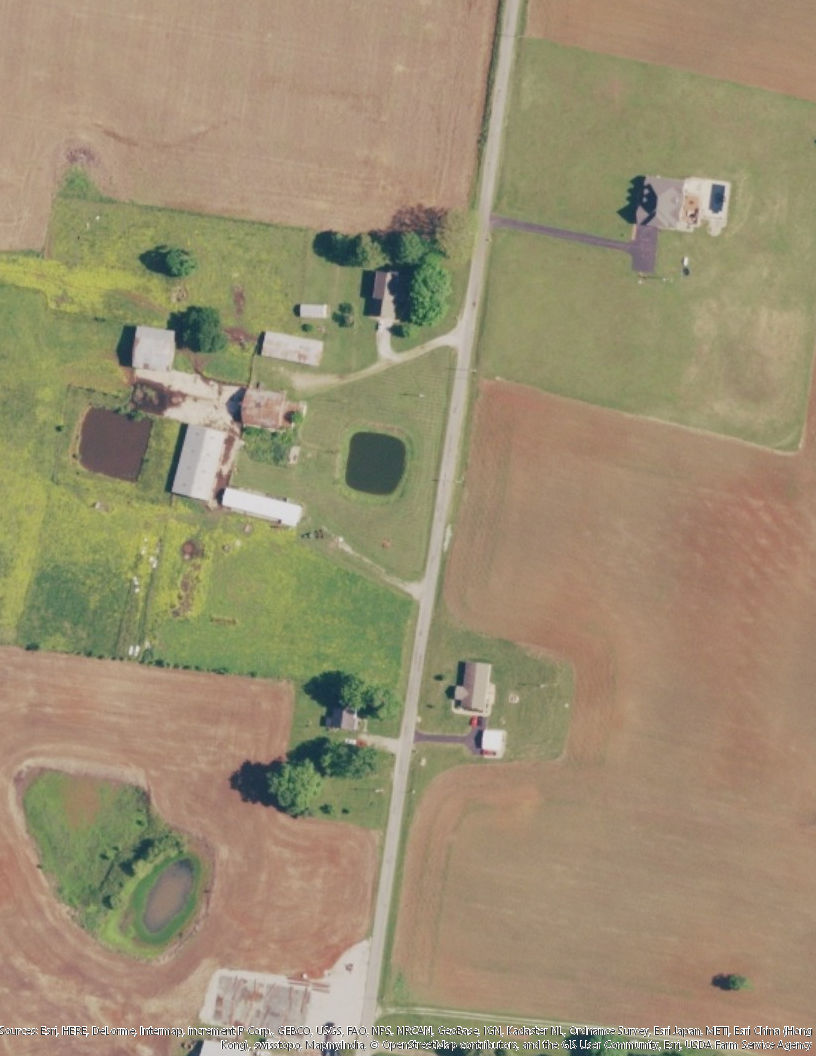cafo: (170, 419, 239, 508), (221, 484, 306, 532), (239, 385, 308, 437), (257, 327, 331, 370)
